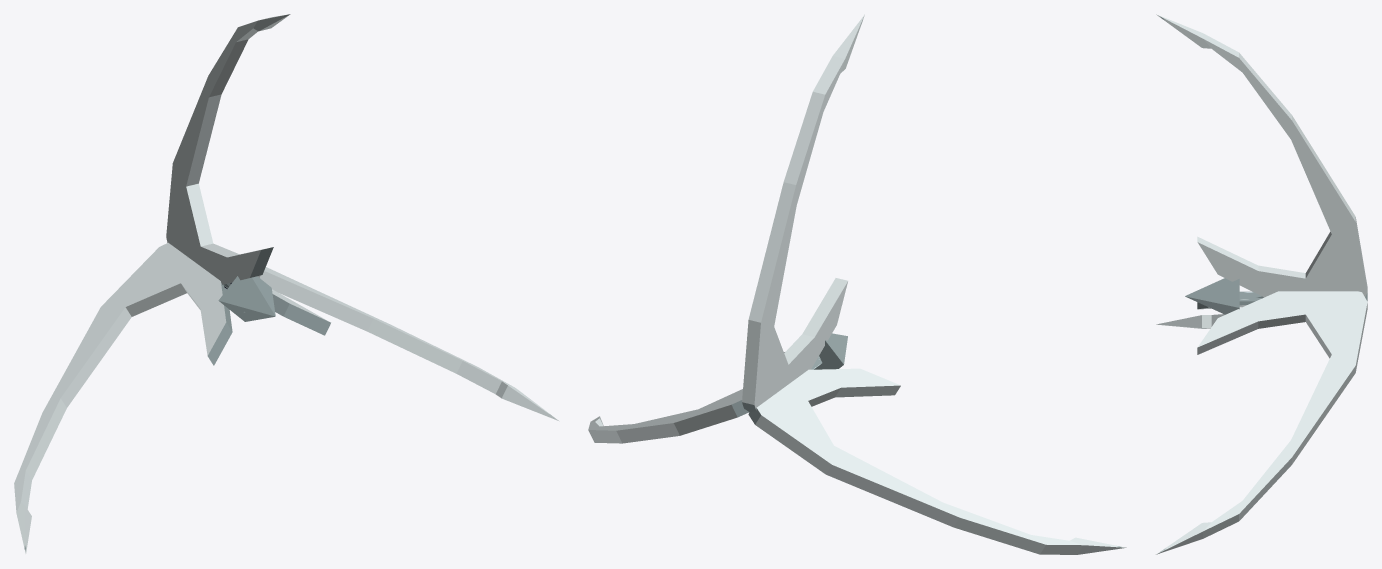
Rendered from grabblehead_open.fbx.
The picture shows the model from 3 angles, left to right: view 1: azimuth 30°, elevation 25°; view 2: azimuth 150°, elevation 25°; view 3: azimuth 270°, elevation 25°; orthographic projection. The views are drawn at different scales.
Visible parts, largest first — view 1: Cylinder.004; view 2: Cylinder.004; view 3: Cylinder.004.
Part boxes in pixels (x1=…): Cylinder.004: x1=14, y1=14, x2=559, y2=553; Cylinder.004: x1=588, y1=14, x2=1126, y2=554; Cylinder.004: x1=1156, y1=14, x2=1367, y2=554.
Size of the model in its own units: 592 by 505 by 228.
